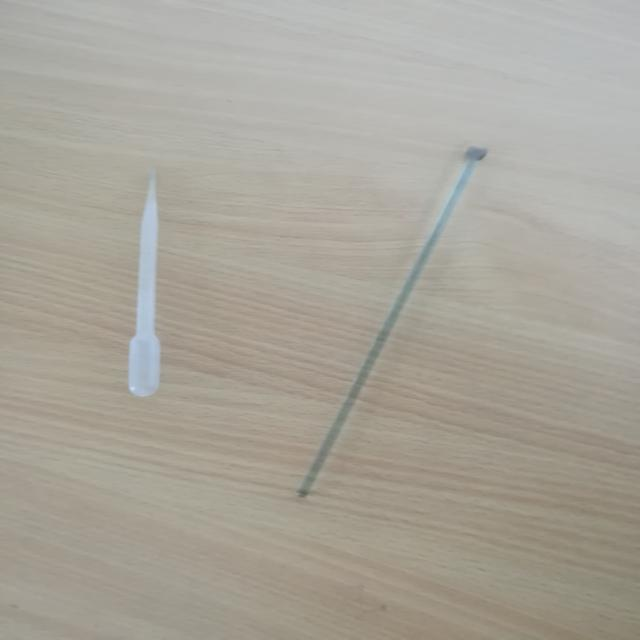Glass_Rod: (277, 121, 510, 523)
Pipette: (87, 164, 213, 420)
